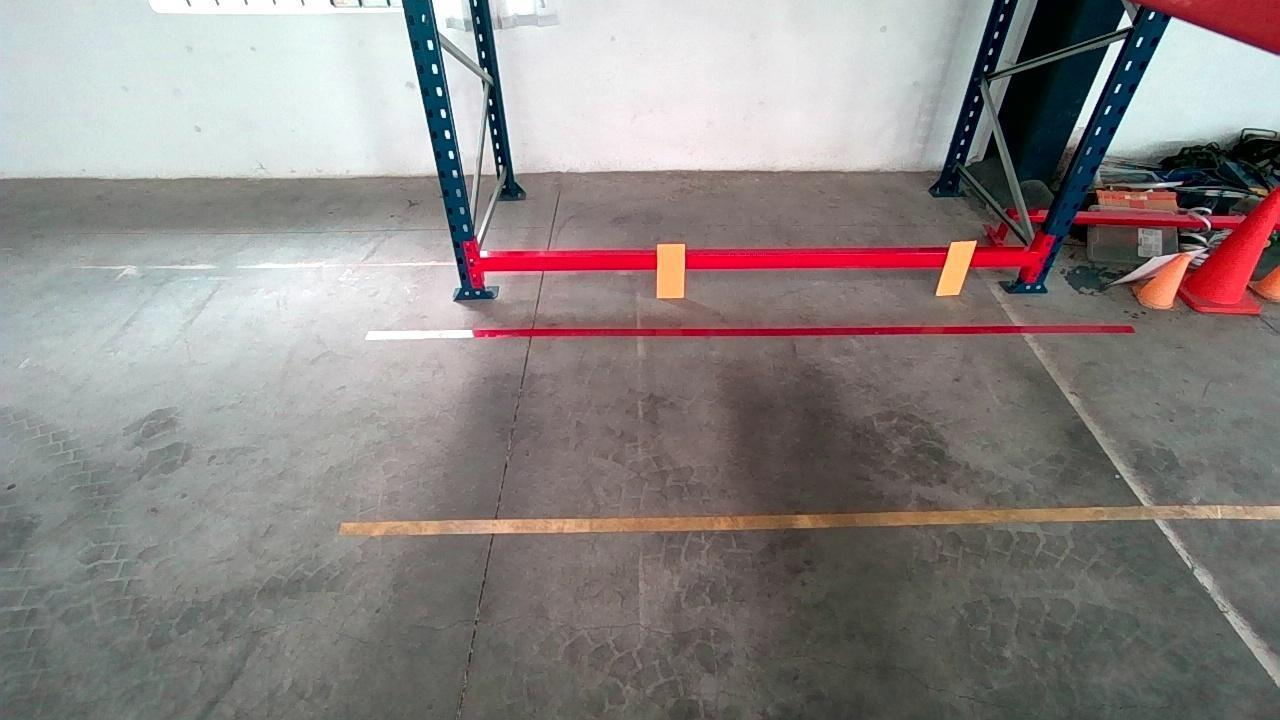h_rack: (483, 248, 1028, 275)
orange_strip: (936, 240, 978, 294), (657, 242, 687, 297)
red_line: (370, 321, 1130, 349)
yellow_line: (334, 500, 1278, 541)
